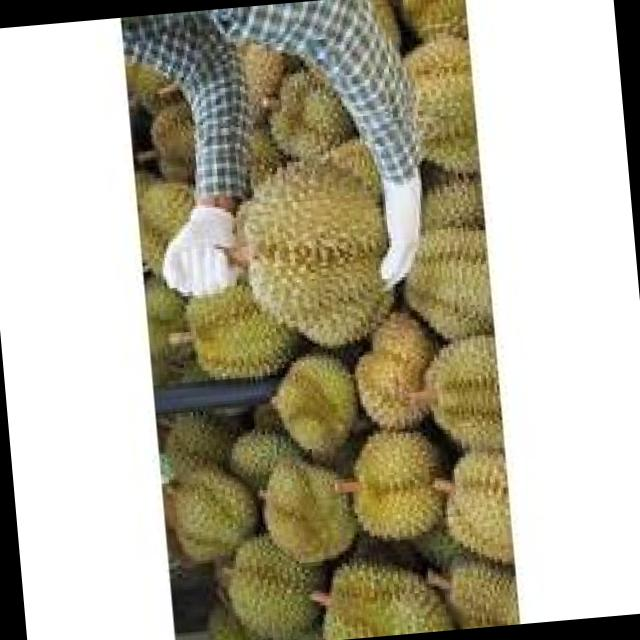fruit: (204, 125, 421, 372), (337, 417, 468, 552), (295, 542, 474, 640), (207, 514, 340, 640)
